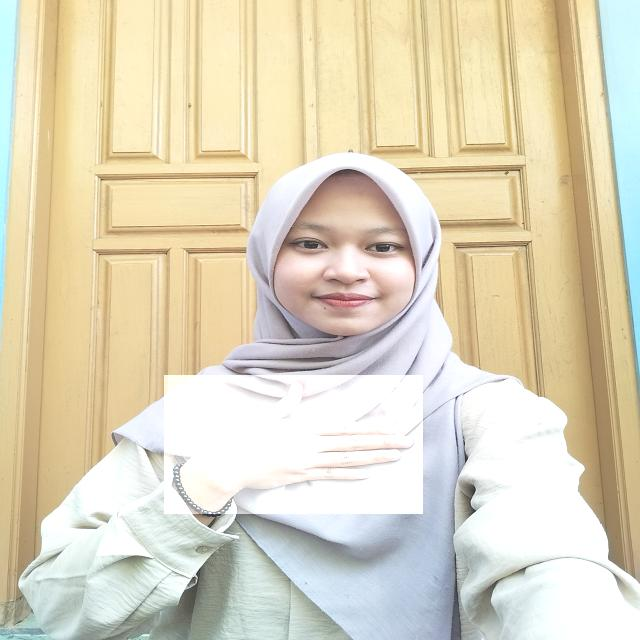tolong: (164, 375, 423, 514)
